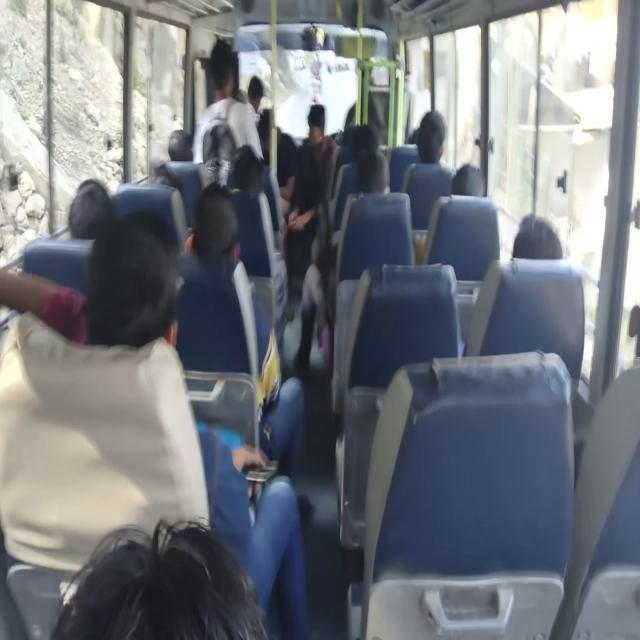person: (40, 454, 192, 640), (87, 220, 158, 357), (367, 162, 436, 230), (509, 212, 558, 276), (51, 176, 97, 240), (189, 196, 230, 263), (299, 109, 339, 160), (220, 164, 252, 212), (246, 81, 274, 132), (262, 111, 289, 162), (208, 44, 230, 106), (347, 124, 377, 167), (136, 148, 173, 181), (447, 156, 472, 204), (418, 115, 442, 162), (169, 130, 195, 172), (230, 137, 256, 171), (402, 119, 419, 152), (347, 131, 358, 144)
